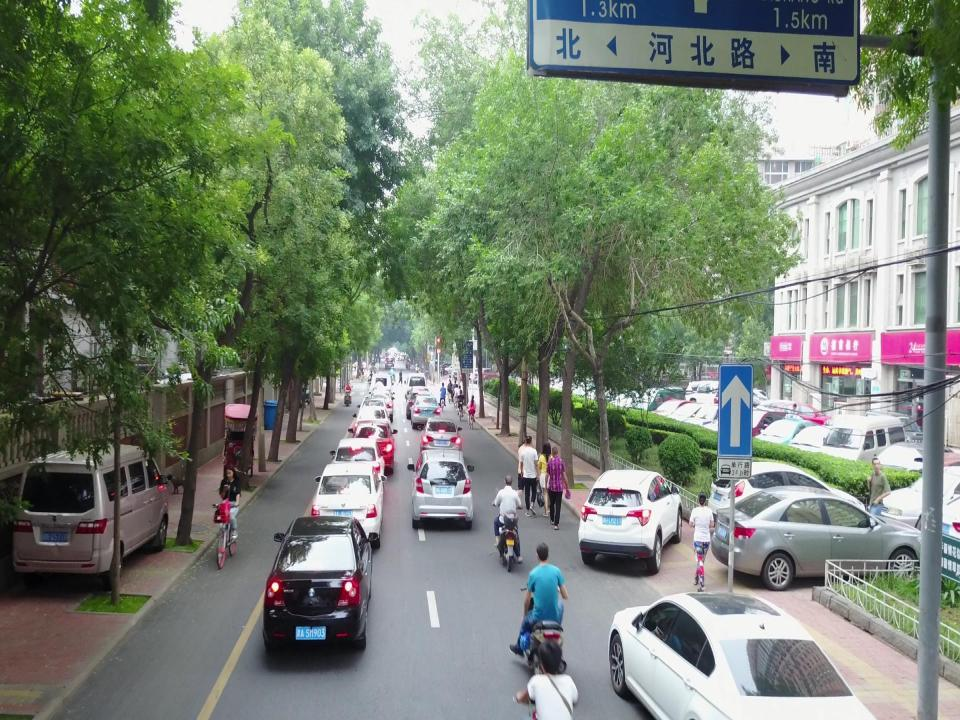car: (606, 593, 876, 720), (714, 491, 922, 585), (262, 521, 378, 654), (708, 461, 876, 537), (578, 470, 680, 570), (314, 462, 382, 549), (408, 449, 476, 529), (755, 418, 839, 467), (787, 430, 875, 474), (330, 437, 384, 500), (688, 407, 766, 445), (350, 419, 398, 476), (669, 403, 739, 442), (652, 397, 714, 428), (354, 408, 392, 450), (421, 419, 461, 458), (355, 397, 389, 434), (409, 395, 443, 431), (408, 386, 432, 421), (404, 373, 428, 402), (368, 391, 392, 420), (373, 386, 393, 415), (384, 356, 394, 370)
van: (9, 447, 169, 581), (811, 416, 911, 487), (636, 388, 694, 420)
